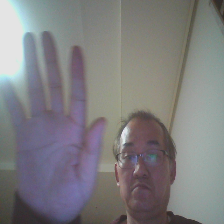hand: (1, 32, 102, 217)
